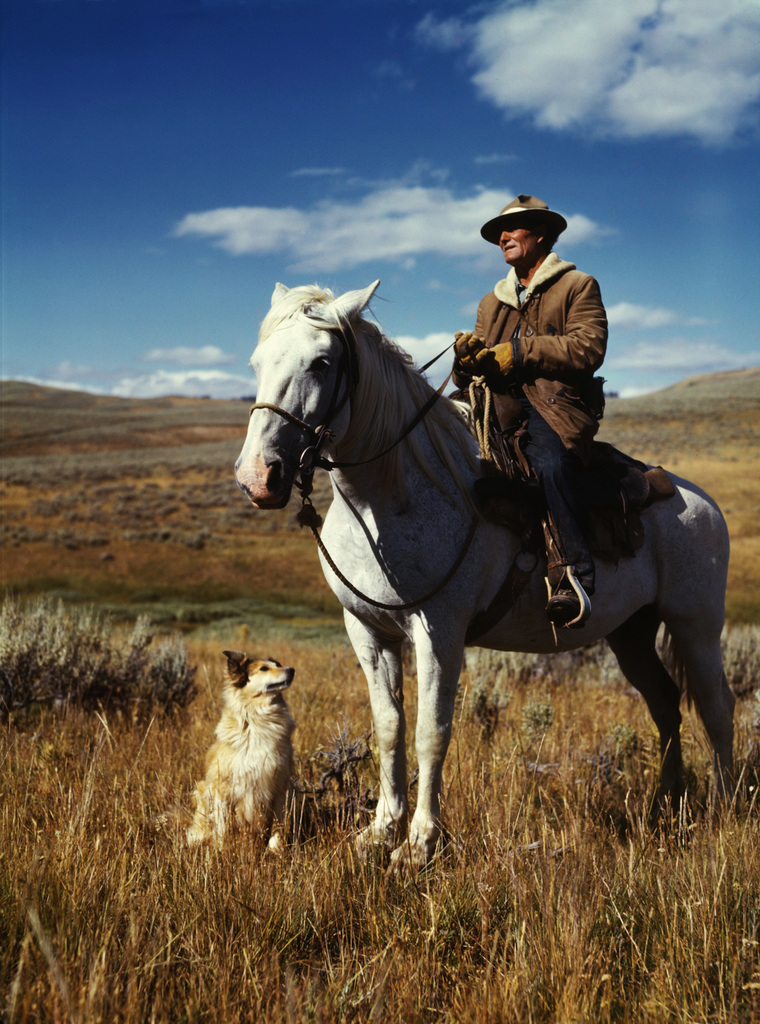horse: (234, 279, 735, 880)
